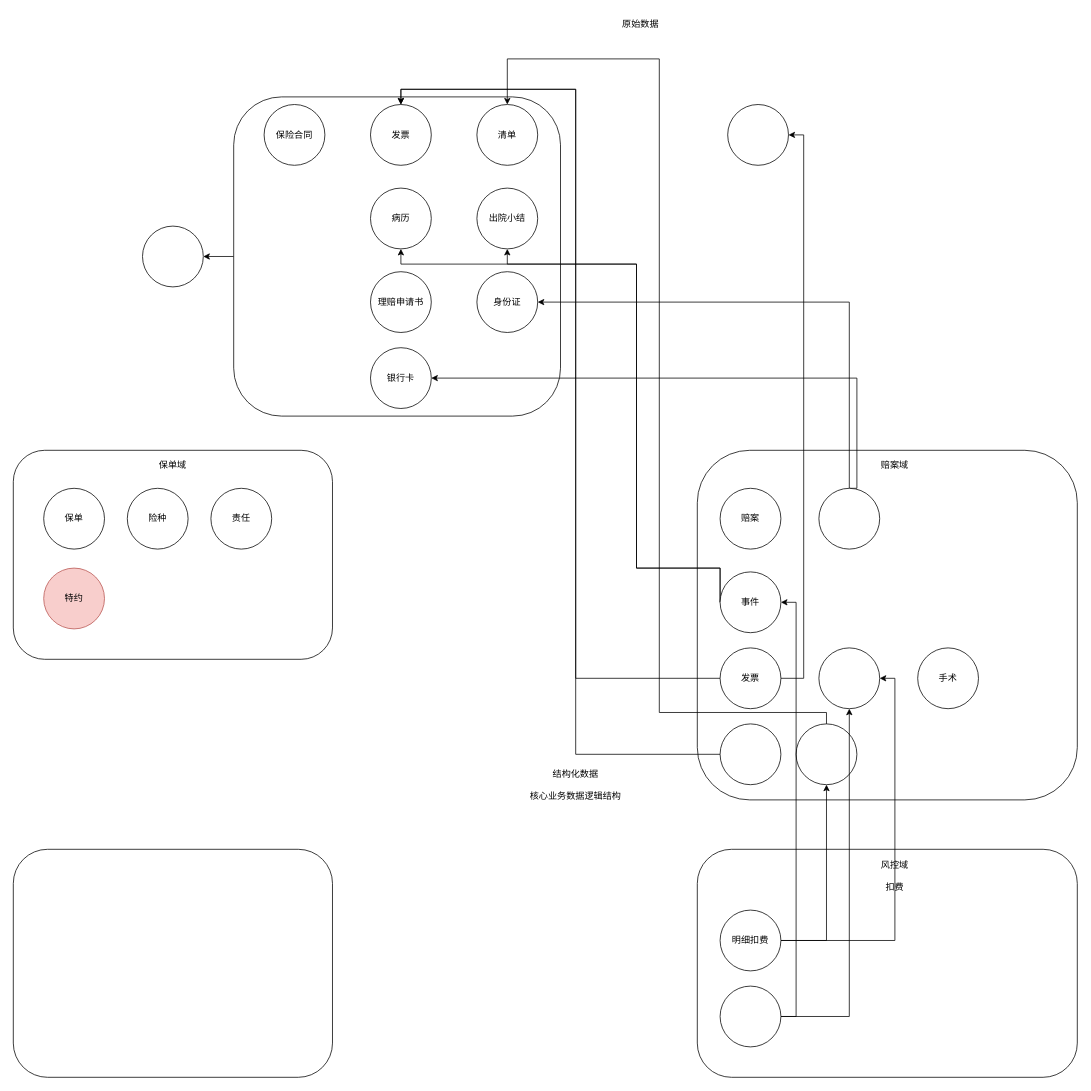
The diagram is 1091 pixels wide and 1091 high, and some of its shapes have lost their labels. The shapes that lost their labels are listed below. From the top down, each one's centre as x and y in pixels, then its label:
At point 757,134: "电子发票".
At point 172,256: "影像件".
At point 849,518: "受益人".
At point 849,678: "诊断".
At point 750,754: "大项".
At point 826,754: "明细".
At point 172,963: "理算域".
At point 750,1016: "事件扣费".
